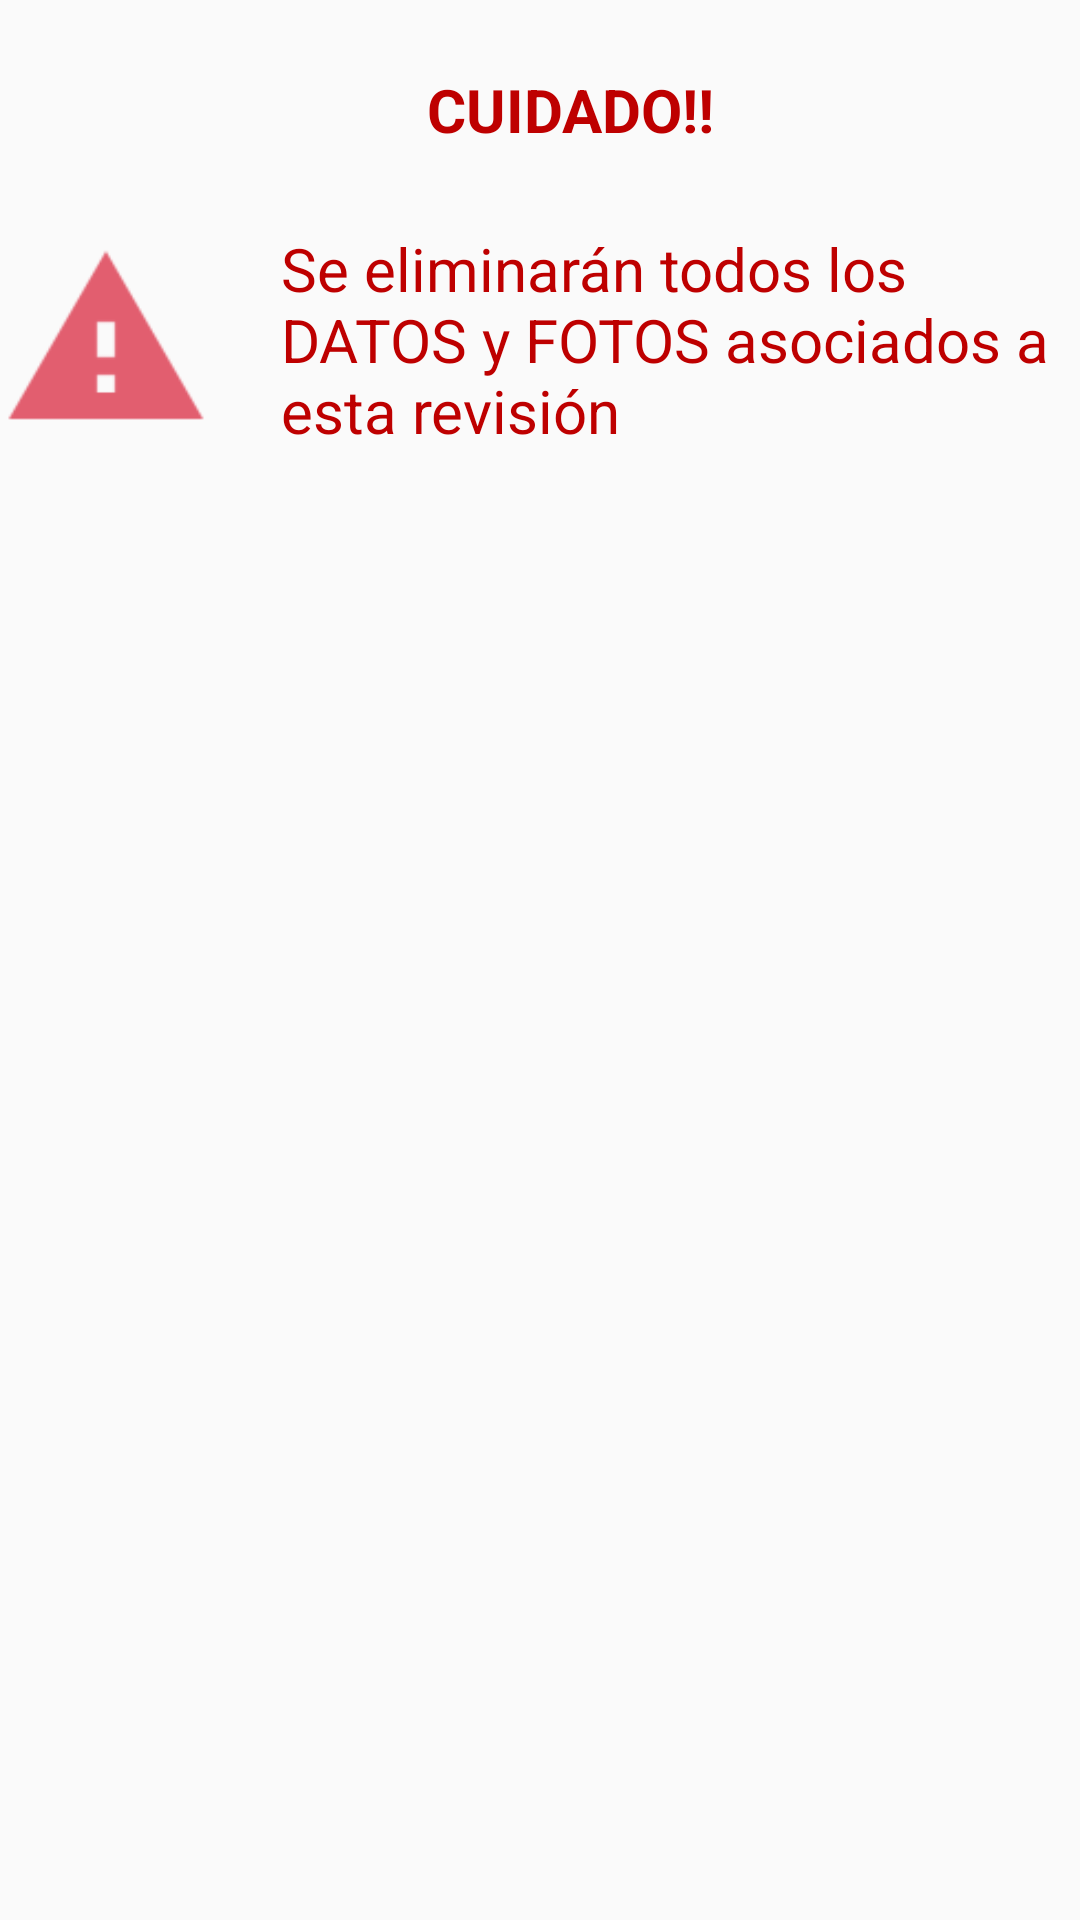

Locate icon controls on the screen. Image size 1080 × 1920, boxes as (x1, y1, x2, y2).
alert: (8, 251, 204, 420)
